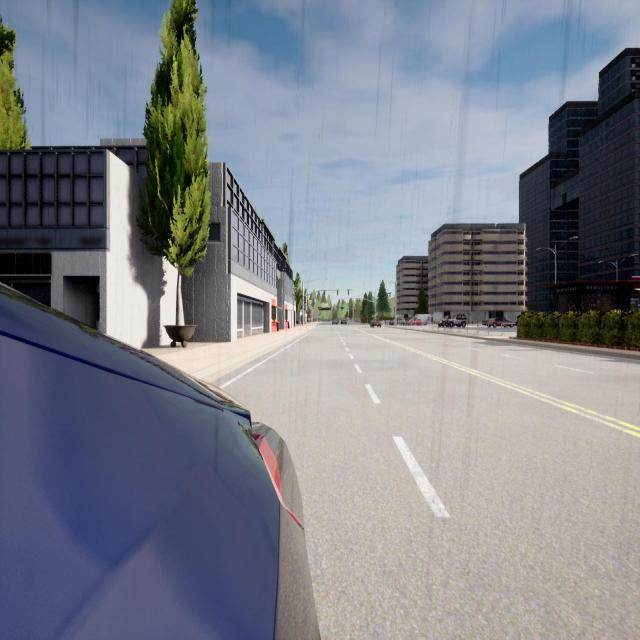Vehicle: (0, 279, 324, 640), (438, 314, 467, 328), (482, 317, 513, 329), (412, 314, 432, 325), (406, 318, 423, 326), (389, 317, 404, 326), (370, 320, 381, 328), (332, 318, 339, 325), (341, 319, 347, 325)
traffic_light: (389, 292, 391, 296), (337, 289, 338, 295), (348, 289, 349, 295), (324, 290, 325, 295)
